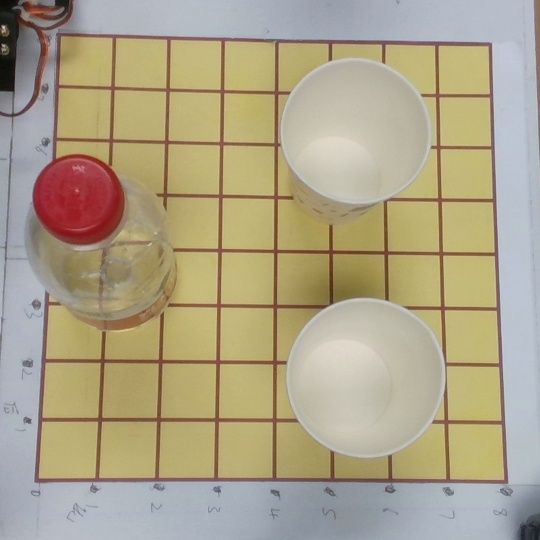bottle: (23, 154, 203, 345)
cup: (273, 294, 447, 466), (274, 59, 432, 243)
